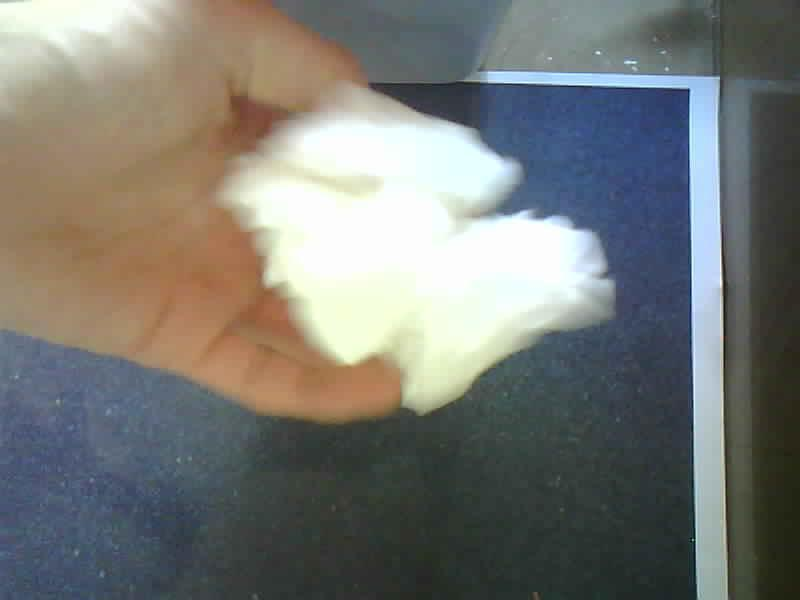paper: (220, 86, 614, 414)
